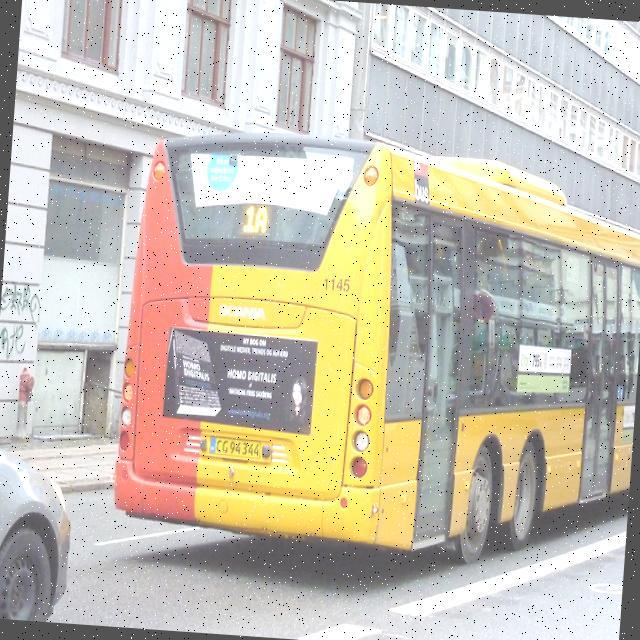fire_hydrant: (8, 363, 36, 447)
